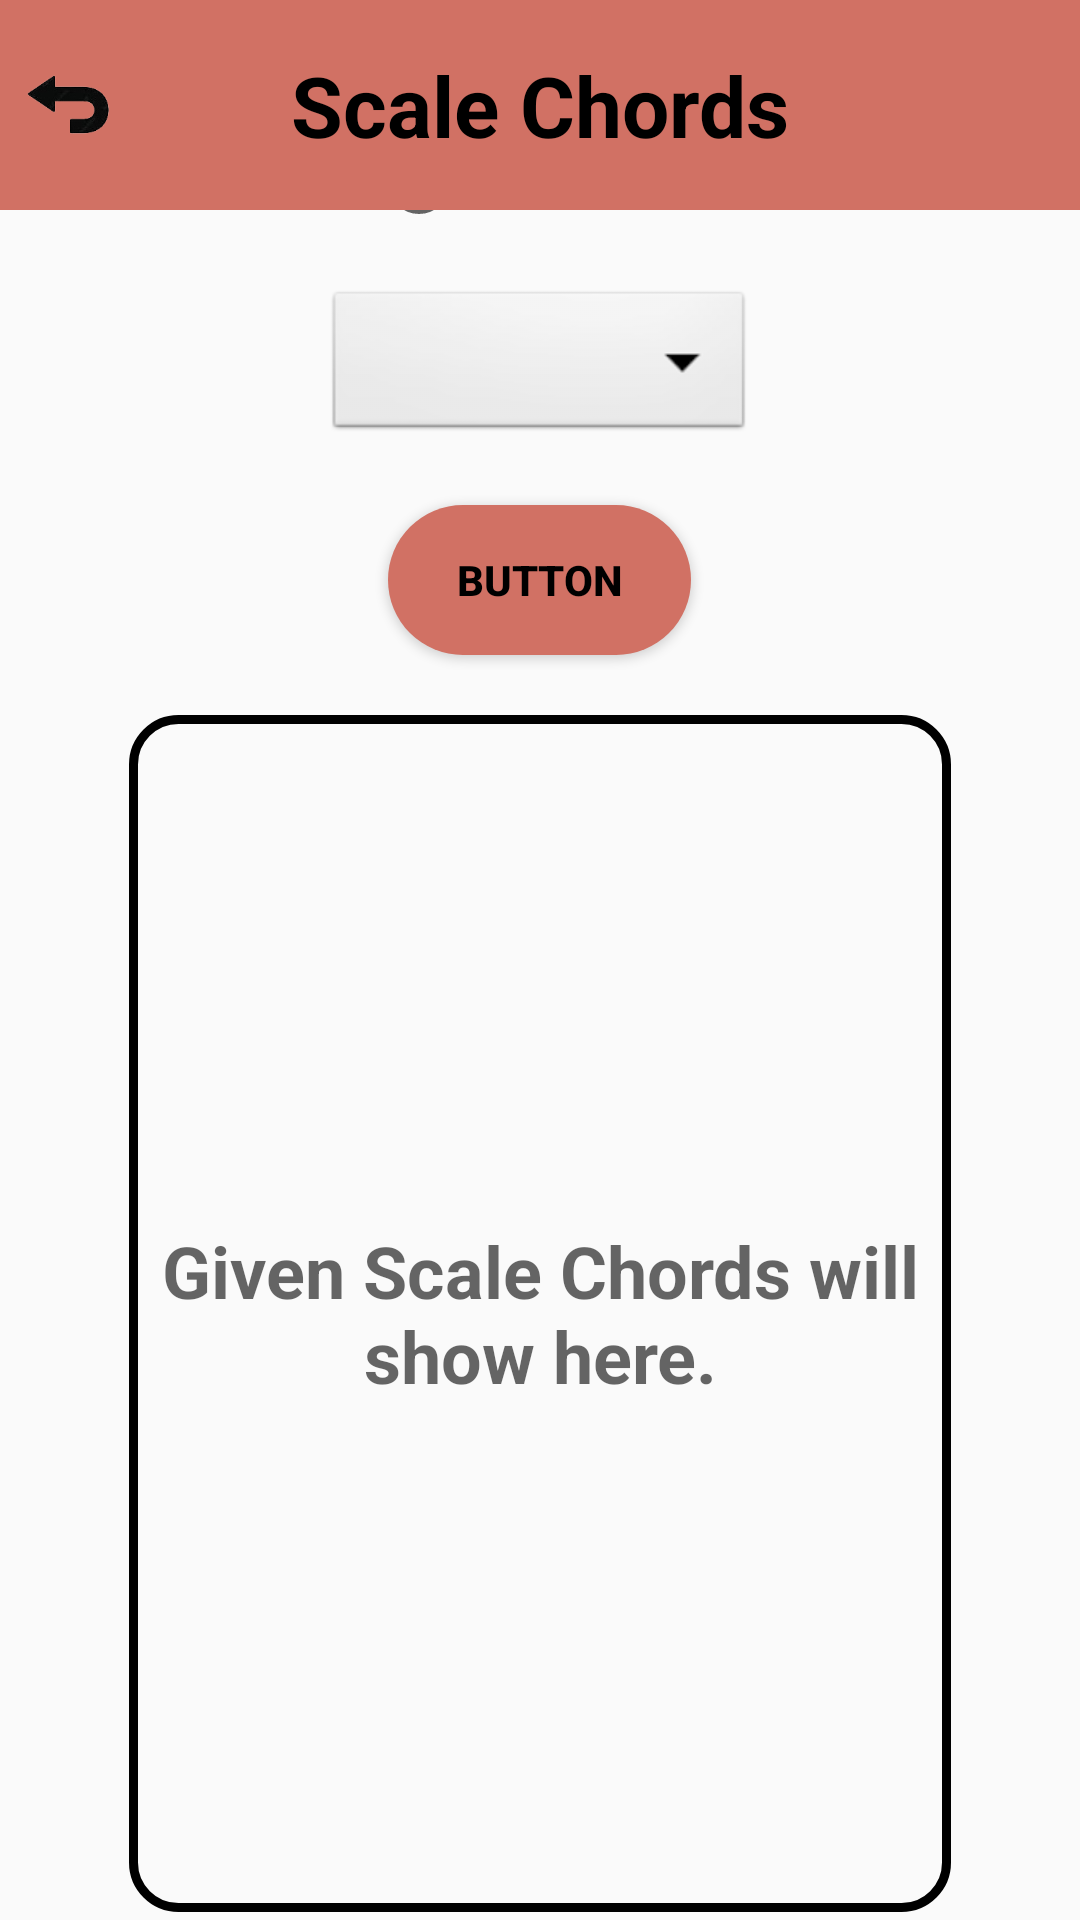

Locate icon controls on the screen. Image size 1080×1920, boxes as (x1, y1, x2, y2).
back: (28, 76, 109, 133)
